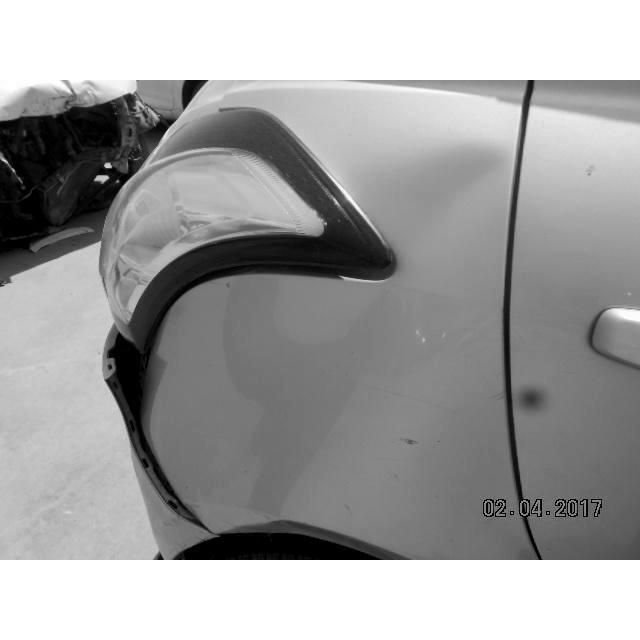rear-bumper-dent: (95, 294, 506, 559)
